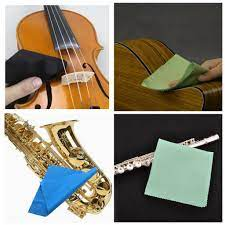Saxophone: (1, 115, 125, 220)
Violin: (1, 1, 117, 114)
